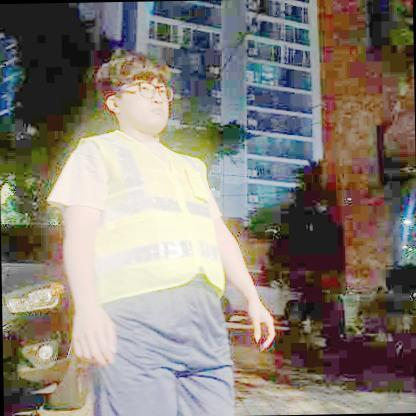no-helmet: (97, 48, 169, 114)
vest: (67, 126, 226, 306)
